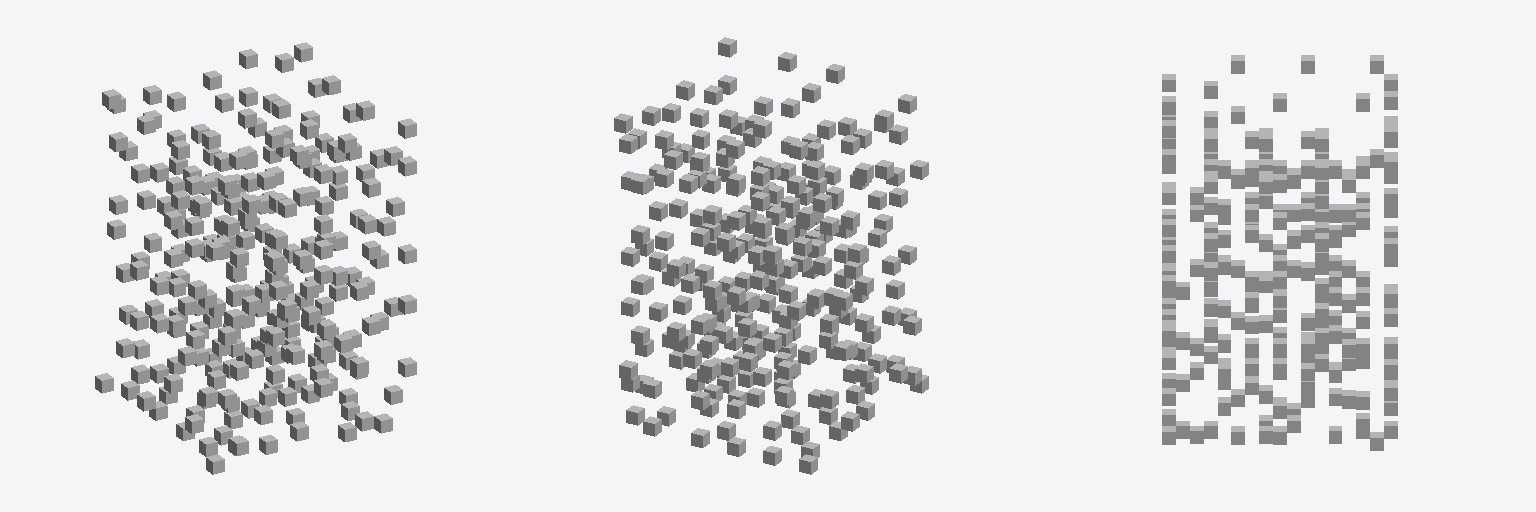
The model's file is fire-00.obj.
3 views of the same model, side by side, from view 1: azimuth 30°, elevation 25°; view 2: azimuth 150°, elevation 25°; view 3: azimuth 270°, elevation 25° (orthographic).
Bounding box in the file's own units: 17 × 24 × 17.